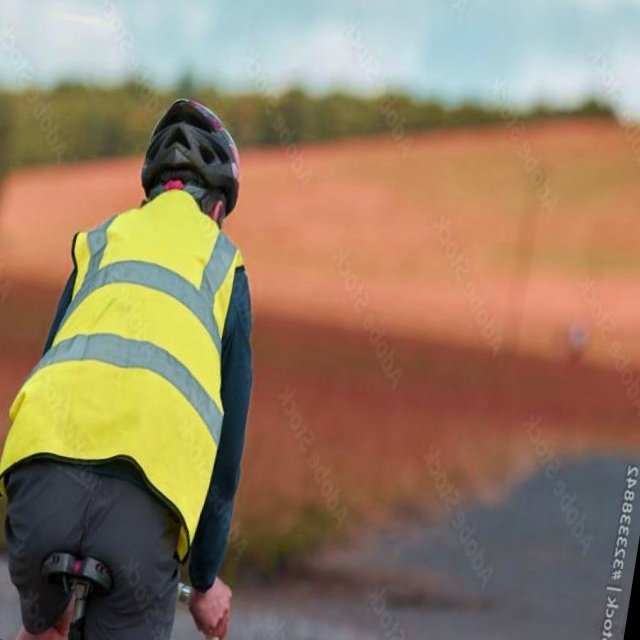Con_Chaleco: (11, 185, 268, 514)
